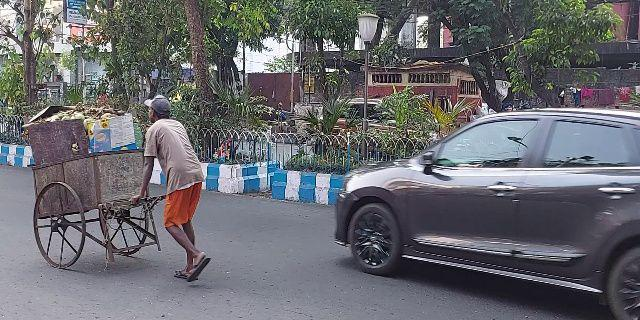Car: (323, 104, 640, 318)
